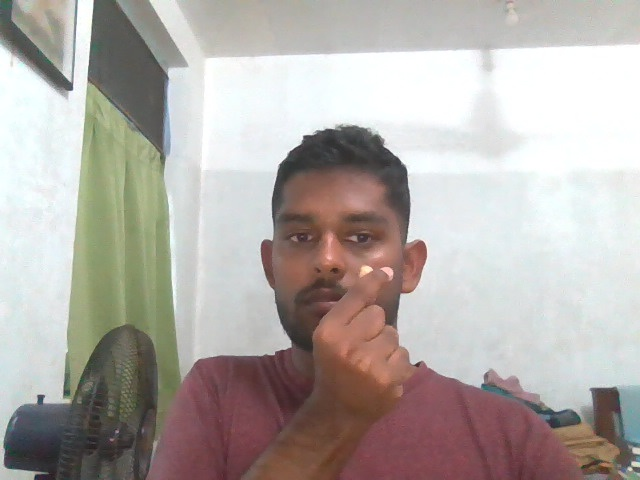iloveyou: (302, 260, 424, 419)
